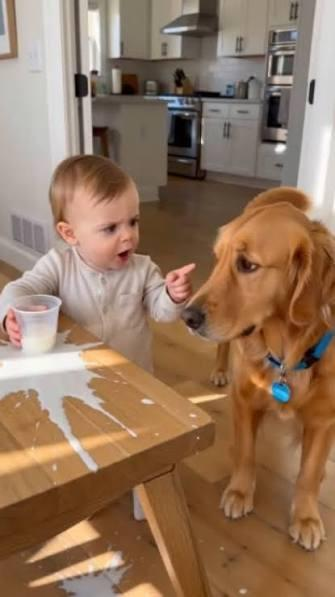adult_dog: (180, 186, 335, 550)
non-dog: (0, 155, 196, 374)
